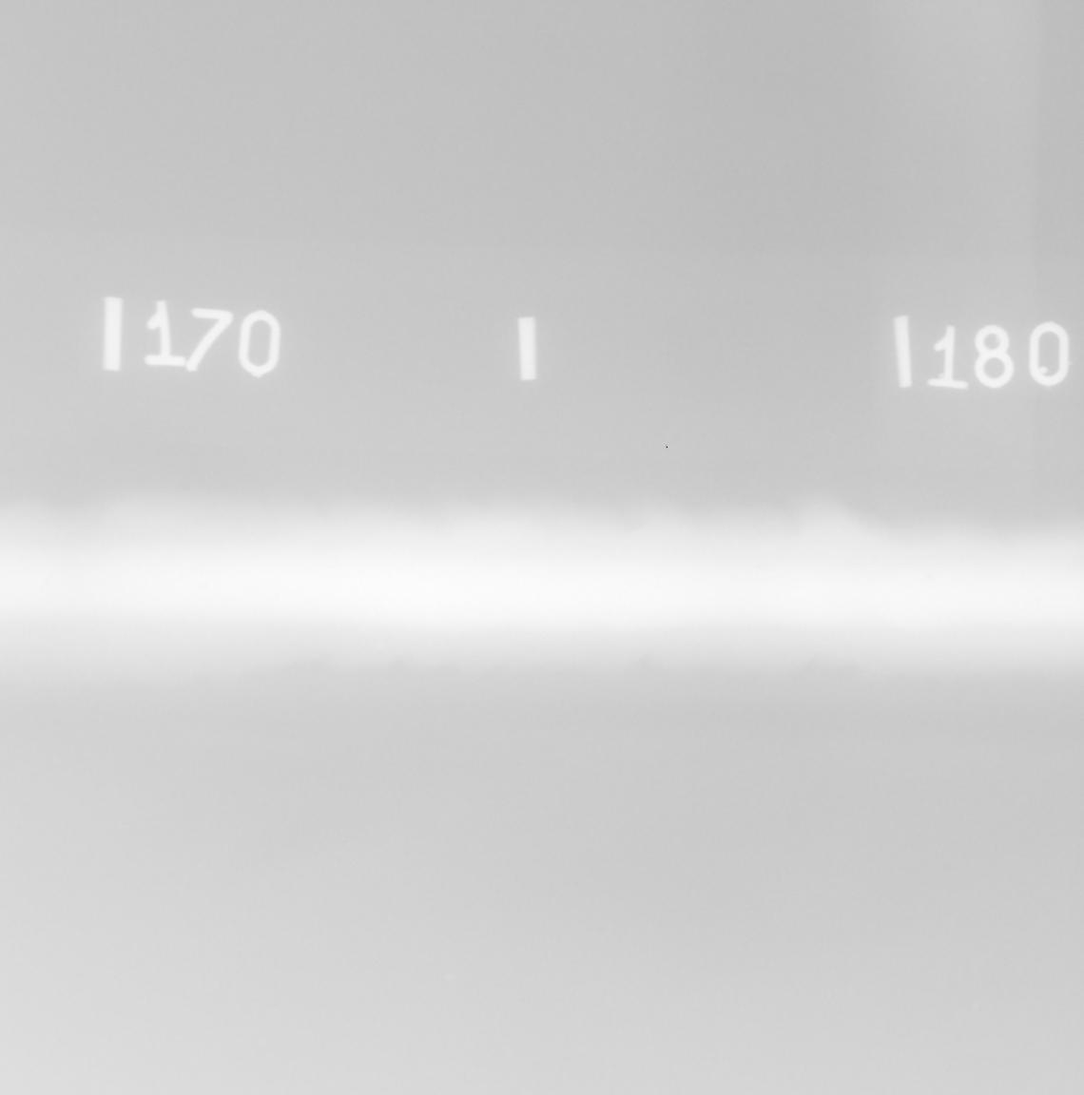Pore/Porosity: (44, 579, 51, 586), (925, 574, 932, 581), (200, 583, 207, 589)
